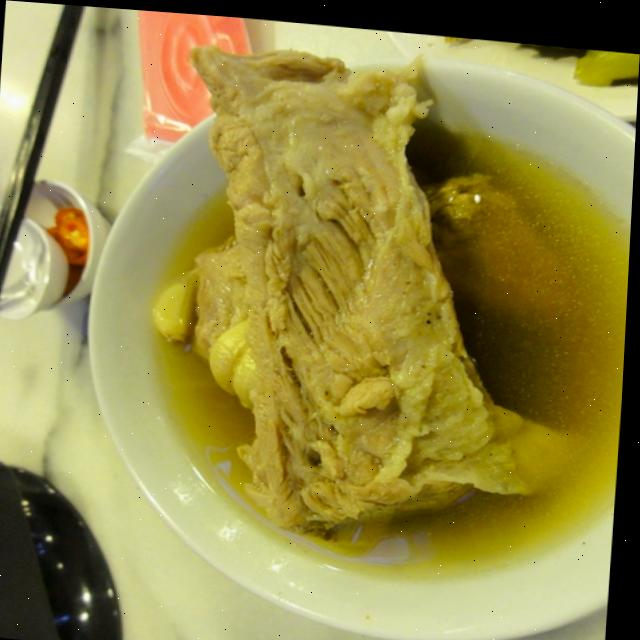汤锅炖物: (41, 30, 639, 640)
